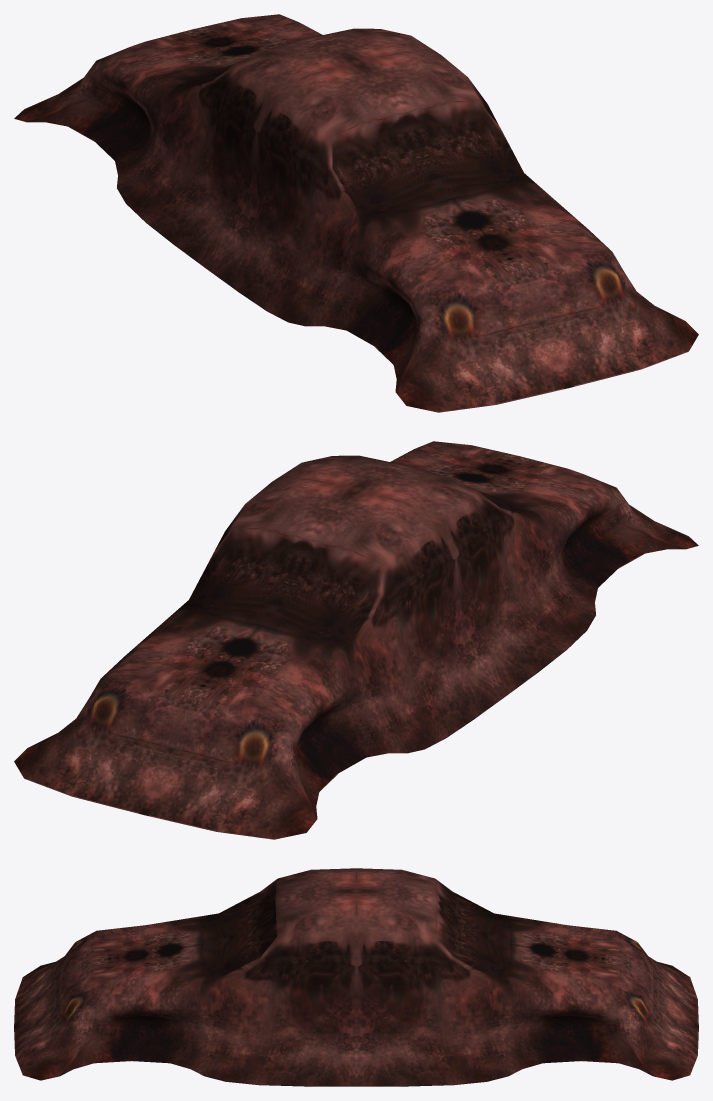
Rendered from FleshCar.glb.
3 renders of one model, top to bottom at view 1: azimuth 30°, elevation 25°; view 2: azimuth 150°, elevation 25°; view 3: azimuth 270°, elevation 25°, orthographic. The views are drawn at different scales.
Parts seen in each view (by area): view 1: Cube; view 2: Cube; view 3: Cube.
Boxes of the visible parts, x1,y1,x2,y2 form: Cube: [14, 14, 698, 412]; Cube: [14, 441, 698, 839]; Cube: [14, 868, 698, 1086].
Bounding box in the file's own units: 4.11 × 2.23 × 10.1.
1 material, 1 textured.
